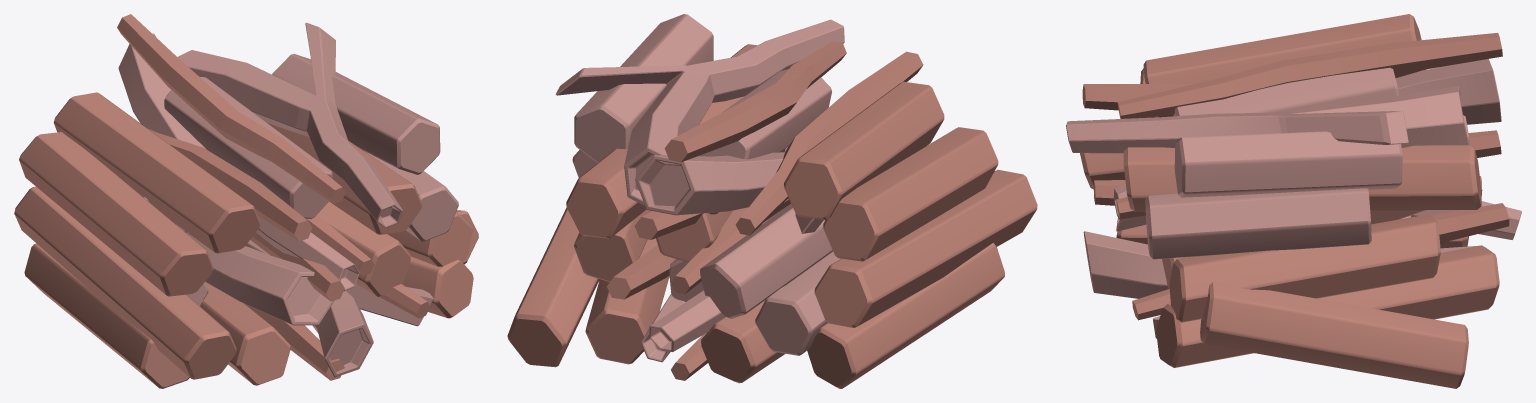
The model's file is woodpile_v1.fbx.
3 views of the same model, side by side, from view 1: azimuth 30°, elevation 25°; view 2: azimuth 150°, elevation 25°; view 3: azimuth 270°, elevation 25° (orthographic). The views are drawn at different scales.
Visible parts, largest first — view 1: woodpile; view 2: woodpile; view 3: woodpile.
Boxes of the visible parts, left/top/right/bottom form: woodpile: left=14, top=14, right=478, bottom=388; woodpile: left=507, top=14, right=1037, bottom=388; woodpile: left=1066, top=14, right=1521, bottom=388.
Size of the model in its own units: 1.99 by 1.36 by 2.05.
